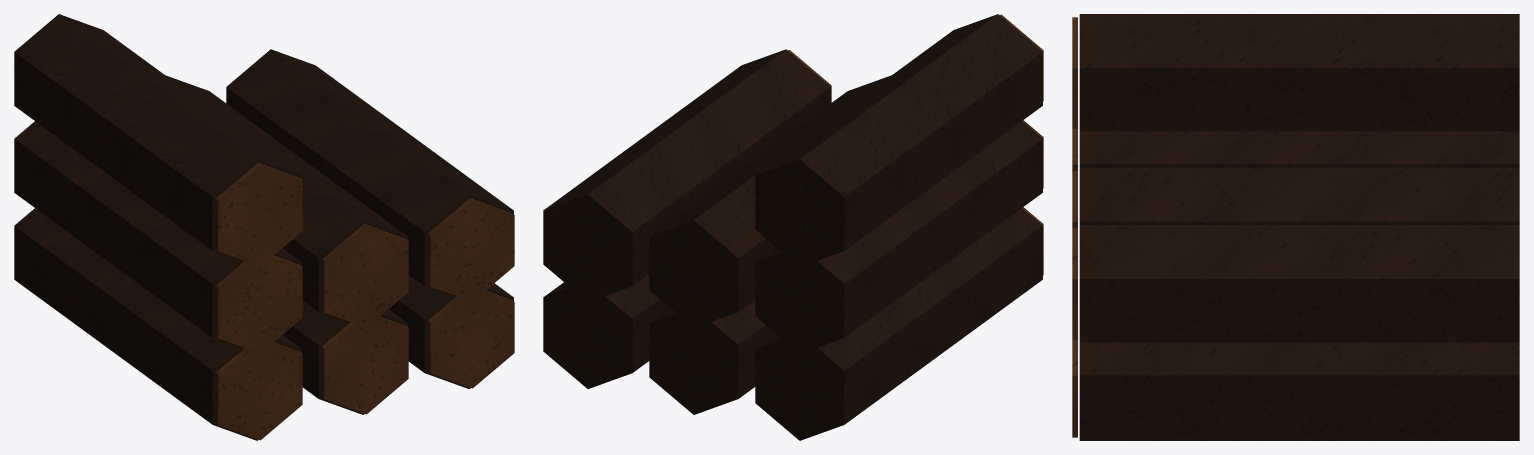
The model's file is PROP-B50FBD8BC166_lod2.glb.
The picture shows the model from 3 angles, left to right: view 1: azimuth 30°, elevation 25°; view 2: azimuth 150°, elevation 25°; view 3: azimuth 270°, elevation 25°; orthographic projection. The views are drawn at different scales.
Visible parts, largest first — view 1: log.001, cut_log_end.001; view 2: log.001, cut_log_end.001; view 3: log.001, cut_log_end.001.
Part boxes in pixels (bbox=[...]): log.001: bbox=[14, 14, 513, 440]; cut_log_end.001: bbox=[216, 163, 514, 440]; log.001: bbox=[543, 14, 1042, 440]; cut_log_end.001: bbox=[788, 14, 1043, 275]; log.001: bbox=[1079, 14, 1519, 440]; cut_log_end.001: bbox=[1072, 17, 1077, 437].
Bounding box in the file's own units: 1.05 × 0.94 × 1.22.
2 materials, 2 textured.
